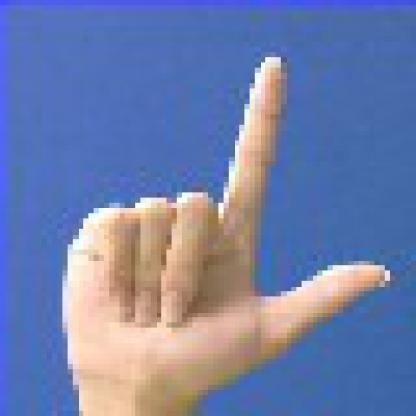seven: (41, 31, 410, 411)
